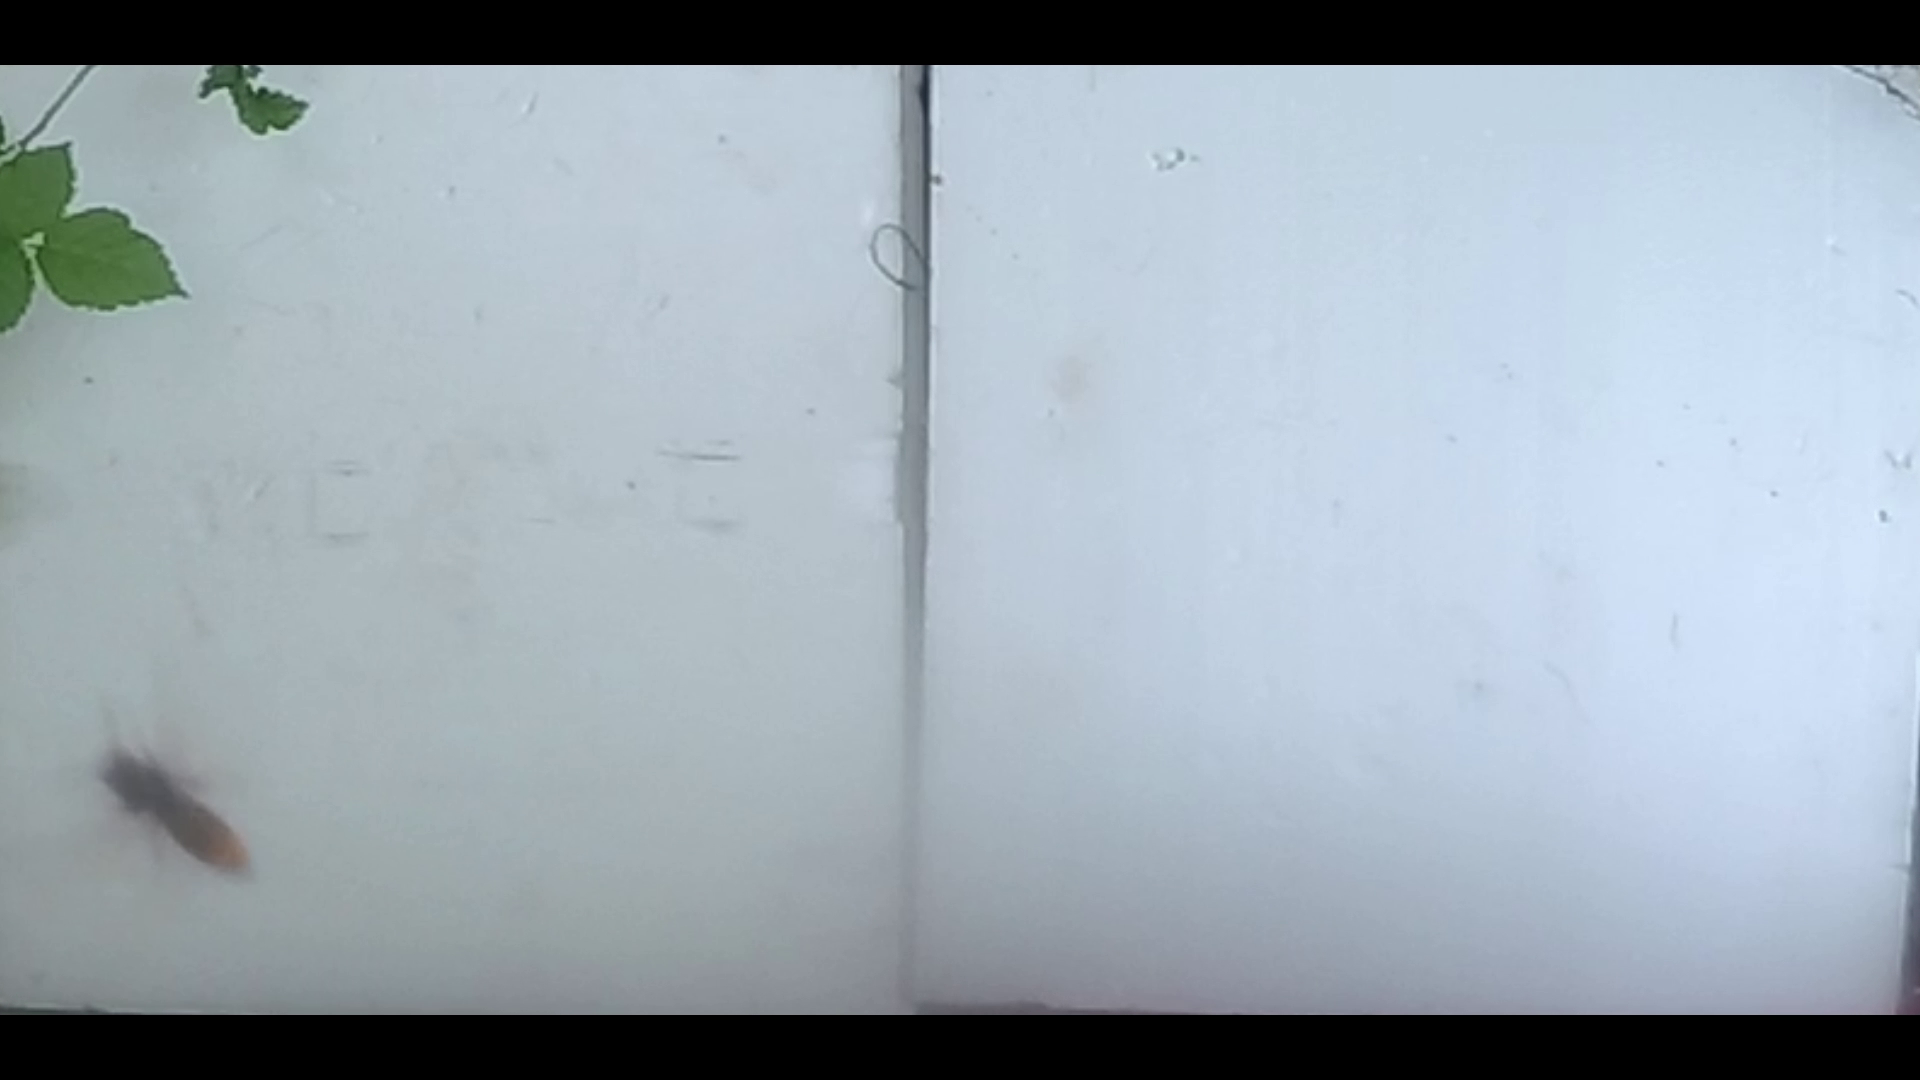Asian_hornets: (64, 699, 263, 898)
